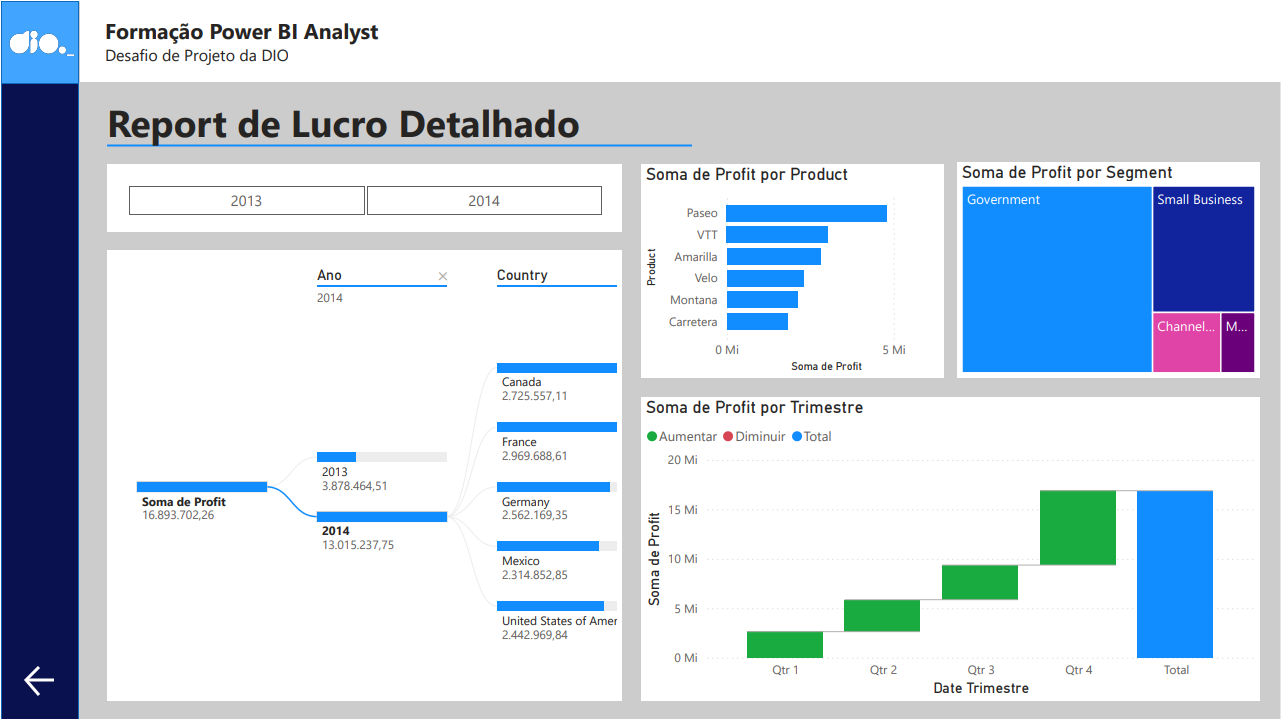

The page's visual inventory and layout, read from the dashboard file:
{"tool":"powerbi","page":{"name":"Página 2","canvas":[1280,720],"ordinal":1},"visuals":[{"type":"shape","title":"Fundo","box":[0,0,1280,720],"z":0},{"type":"shape","title":"Barra lateral - corpo","box":[0,0,77.9,720.1],"z":0,"group":"g1"},{"type":"shape","title":"Barra topo (branca)","box":[78.6,0,1201.4,81.4],"z":0,"group":"g2"},{"type":"shape","title":"Barra lateral - ponta","box":[0,0,77.9,83.3],"z":1000,"group":"g1"},{"type":"textbox","title":"Texto topo","box":[98.6,10,342.9,71.4],"z":1000,"group":"g2"},{"type":"shape","title":"Sublinhado texto","box":[105.7,112.9,585.7,62.9],"z":1000},{"type":"image","title":"logo dio","box":[2.2,1.1,77.8,79.5],"z":2000,"group":"g1"},{"type":"textbox","title":"\"Sales Report\"","box":[101.4,91.4,507.1,62.9],"z":2000},{"type":"group","id":"g1","title":"Barra lateral","box":[0,0,80,720.1],"z":3000},{"type":"group","id":"g2","title":"Barra topo","box":[78.6,0,1201.4,81.4],"z":4000},{"type":"treemap","fields":{"Values":["Sum(financials.Profit)"],"Group":["financials.Segment"]},"box":[955.7,161.4,302.9,215.7],"z":5000},{"type":"clusteredBarChart","fields":{"Category":["financials.Product"],"Y":["Sum(financials.Profit)"]},"box":[640,162.9,302.9,214.3],"z":6000},{"type":"waterfallChart","fields":{"Category":["financials.Date.Variation.Hierarquia de datas.Trimestre"],"Y":["Sum(financials.Profit)"]},"box":[640,395.7,618.6,304.3],"z":7000},{"type":"decompositionTreeVisual","fields":{"Analyze":["Sum(financials.Profit)"],"ExplainBy":["financials.Date.Variation.Hierarquia de datas.Ano","financials.Country"]},"box":[105.7,248.6,515.7,451.4],"z":8000},{"type":"slicer","fields":{"Values":["financials.Date.Variation.Hierarquia de datas.Ano"]},"box":[105.7,162.9,515.7,68.6],"z":9000},{"type":"actionButton","title":"Botão Esquerda","box":[18.6,660,42.9,40],"z":10001,"group":"g1"}]}

Visuals, with their boxes on the page's 1280x720 design canvas (x1, y1, x2, y2). These are canvas units, not pixel positions in the 1282x719 screenshot, which may show the page scaled, cropped or inside an application window:
"Fundo" shape: 0, 0, 1280, 720
"Barra lateral - corpo" shape: 0, 0, 78, 720
"Barra topo (branca)" shape: 79, 0, 1280, 81
"Barra lateral - ponta" shape: 0, 0, 78, 83
"Texto topo" textbox: 99, 10, 442, 81
"Sublinhado texto" shape: 106, 113, 691, 176
"logo dio" image: 2, 1, 80, 81
""Sales Report"" textbox: 101, 91, 608, 154
"Barra lateral" group: 0, 0, 80, 720
"Barra topo" group: 79, 0, 1280, 81
treemap - Sum(financials.Profit) x financials.Segment: 956, 161, 1259, 377
clusteredBarChart - financials.Product x Sum(financials.Profit): 640, 163, 943, 377
waterfallChart - financials.Date.Variation.Hierarquia de datas.Trimestre x Sum(financials.Profit): 640, 396, 1259, 700
decompositionTreeVisual - Sum(financials.Profit) x financials.Date.Variation.Hierarquia de datas.Ano: 106, 249, 621, 700
slicer - financials.Date.Variation.Hierarquia de datas.Ano: 106, 163, 621, 232
"Botão Esquerda" actionButton: 19, 660, 62, 700
